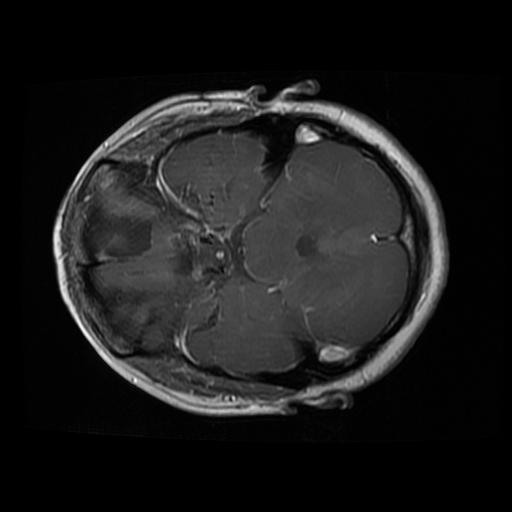glioma: (79, 190, 155, 264)
